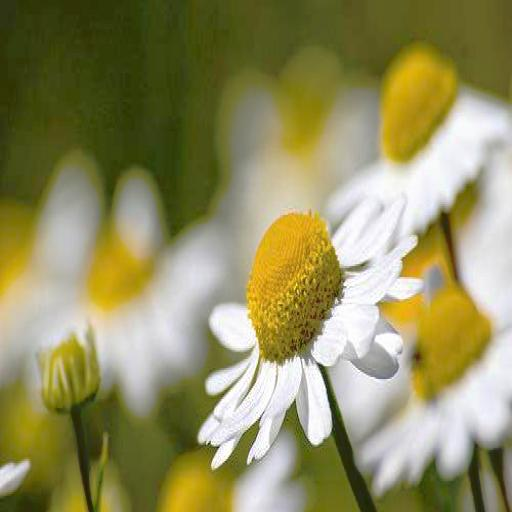daisy: (200, 204, 412, 459), (35, 330, 101, 408)
